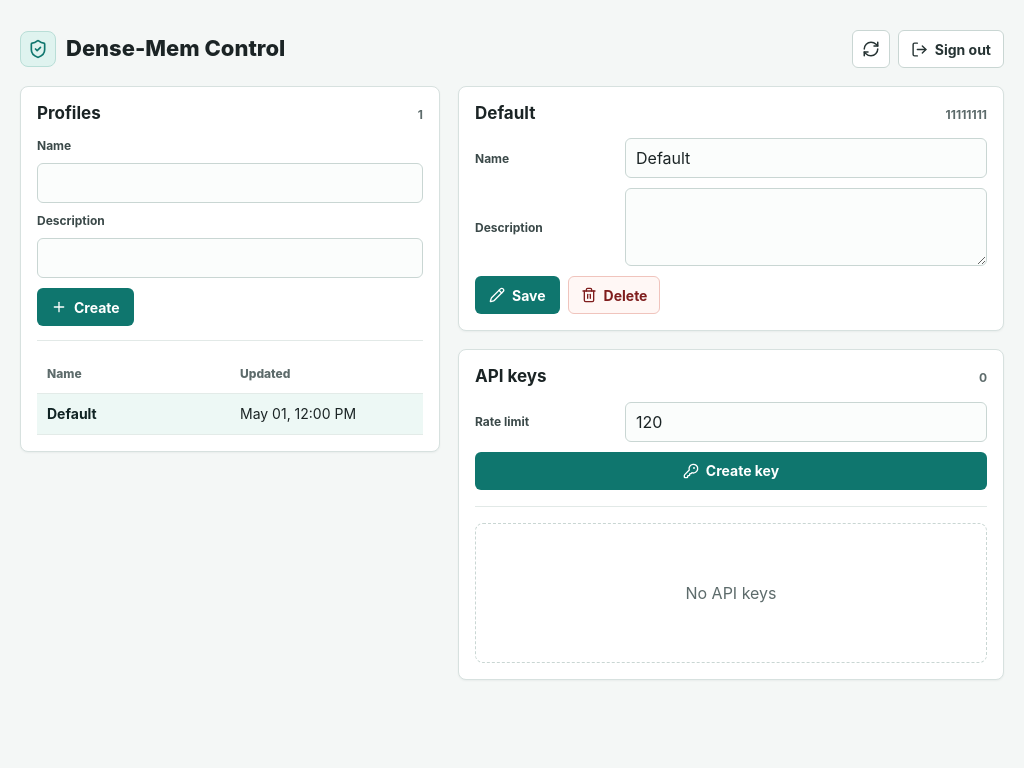
Test: App › creates a profile and selects it
Expected: the button "Default" is shown, [47,405,97,423]
In the field labelled "Name" below "Profiles": (230, 183) [37,163,423,203], type "Work Profile"
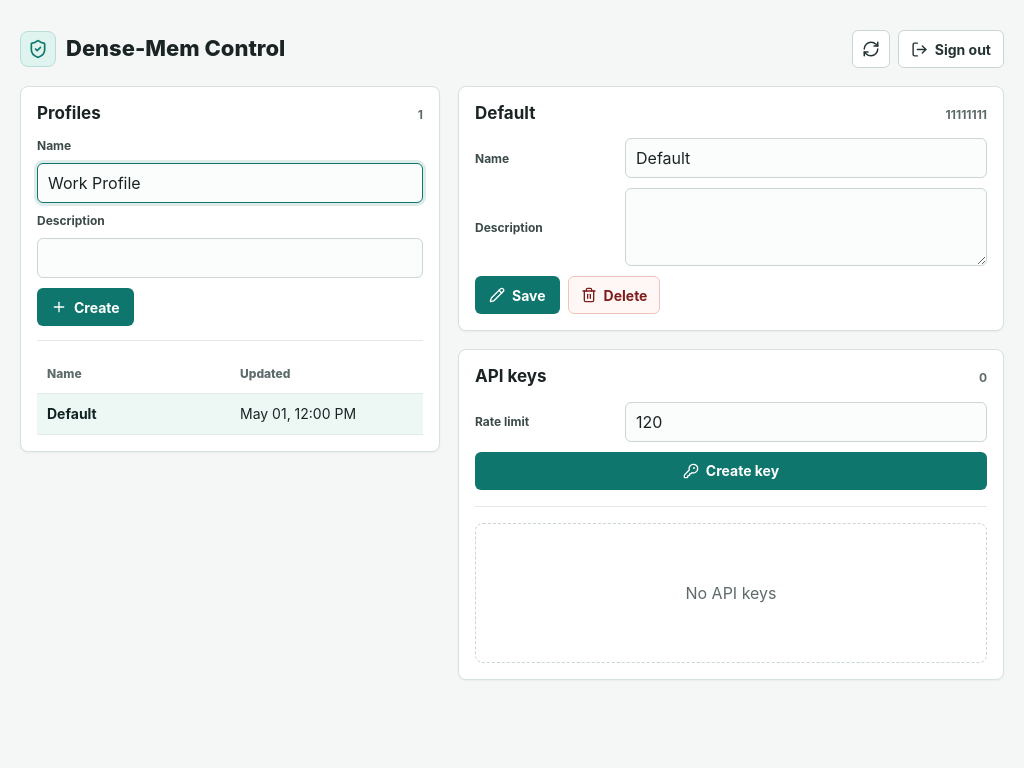
In the field labelled "Description": (230, 258) [37,238,423,278], type "for work"
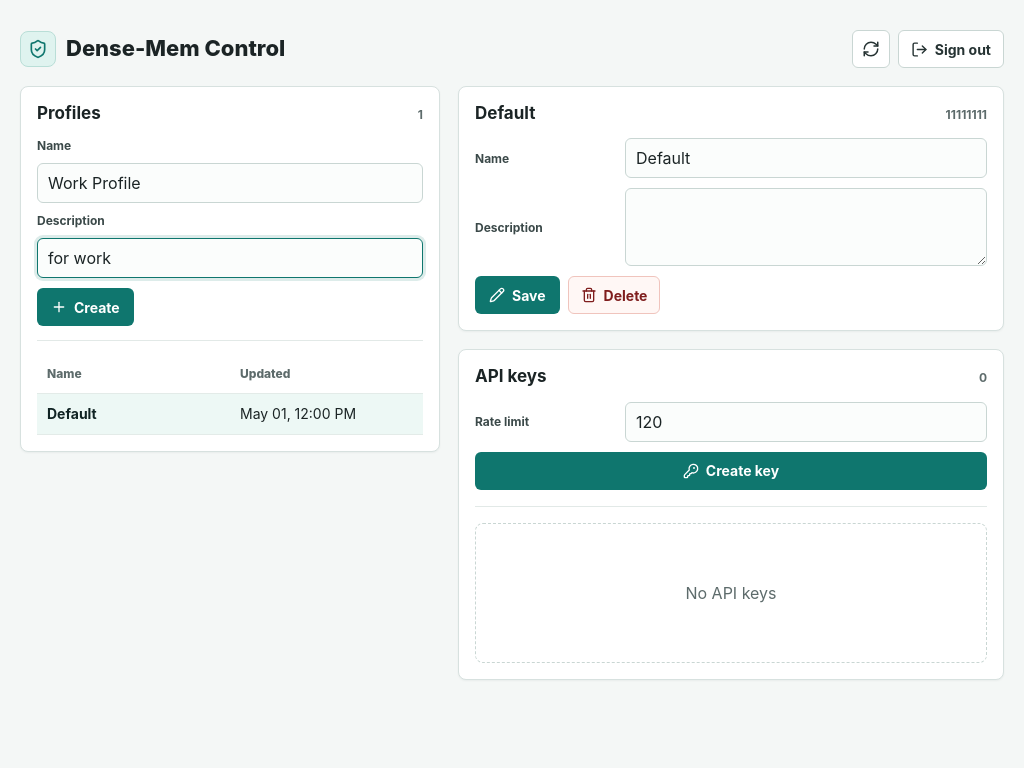
Click the button "Create": (85, 307) [37,288,134,326]
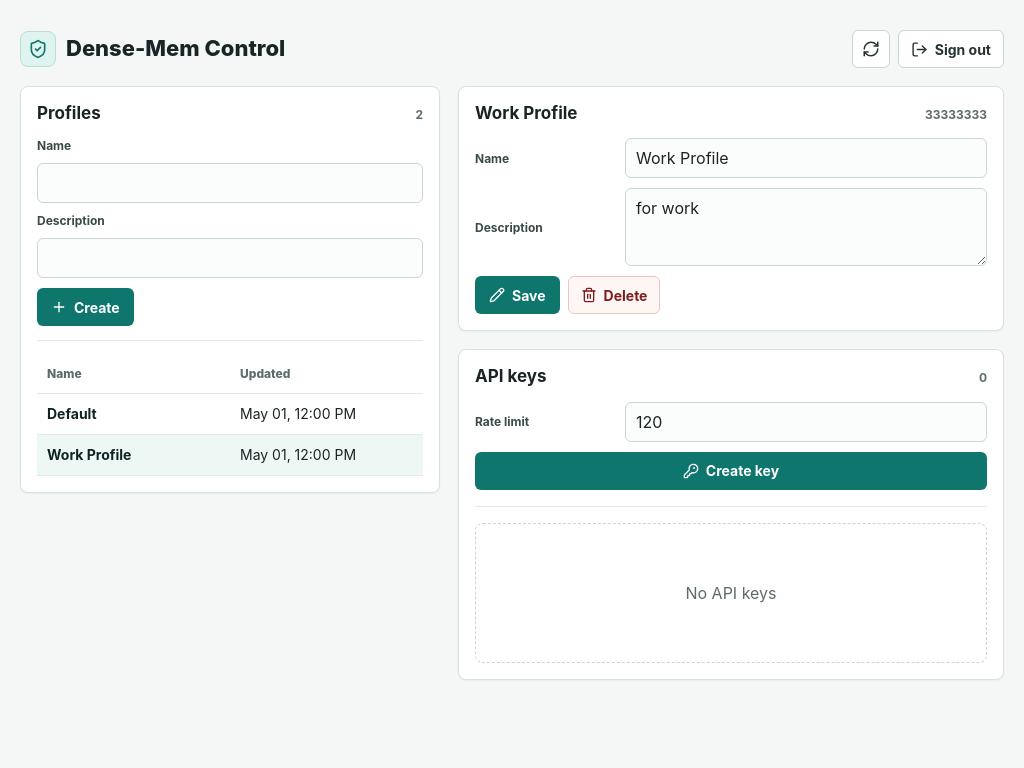
Now the heading "Work Profile" is shown, box [475,103,578,124]
